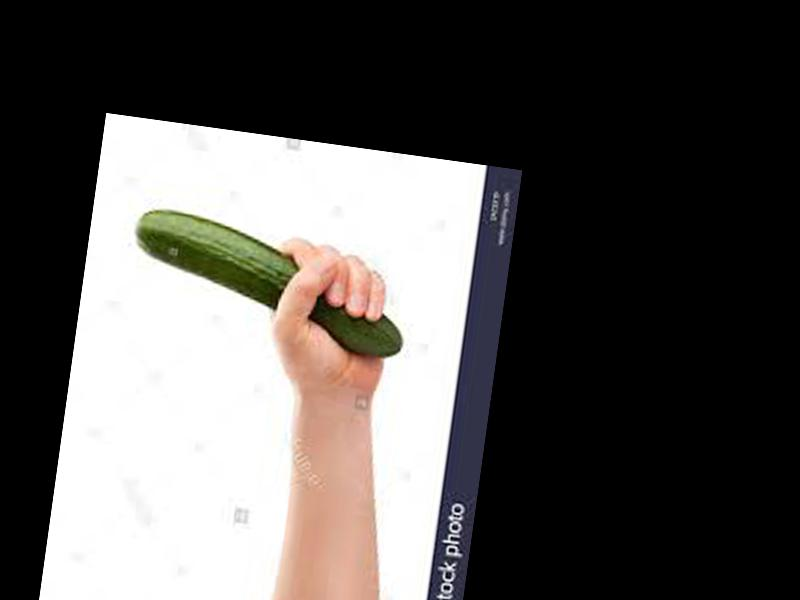Cucumber: (124, 205, 415, 358)
